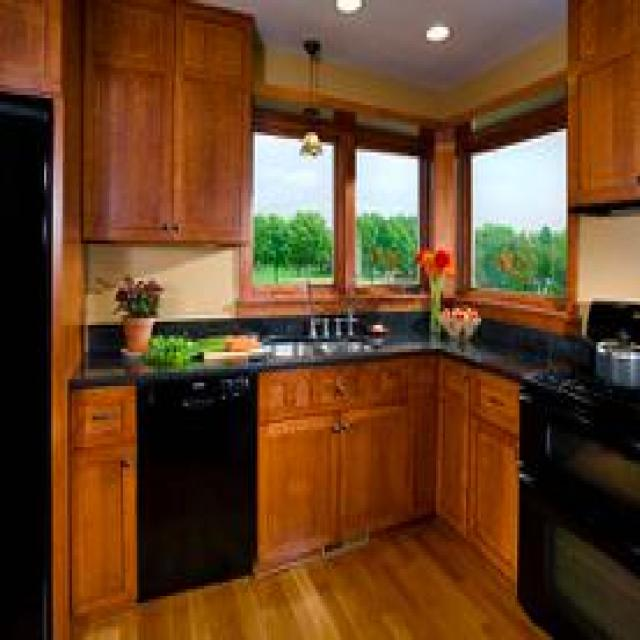dishwasher: (134, 369, 258, 599)
